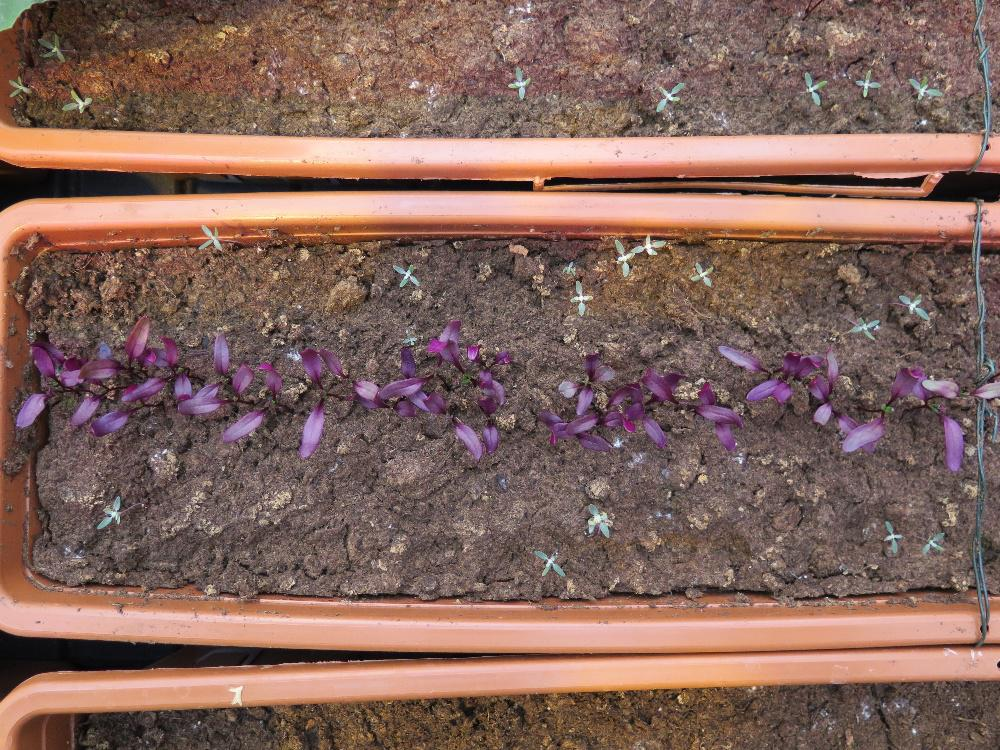weed: (532, 548, 565, 579), (654, 79, 685, 112), (95, 492, 120, 531), (506, 63, 531, 102), (907, 75, 943, 102), (897, 291, 929, 321), (59, 87, 92, 115), (569, 277, 593, 315), (803, 70, 828, 106), (848, 313, 879, 342), (35, 32, 64, 63), (390, 259, 420, 287), (195, 221, 222, 252), (854, 68, 881, 97), (687, 259, 713, 286), (883, 518, 903, 553), (6, 73, 32, 97), (920, 531, 944, 555), (558, 258, 575, 276), (399, 330, 416, 345)
